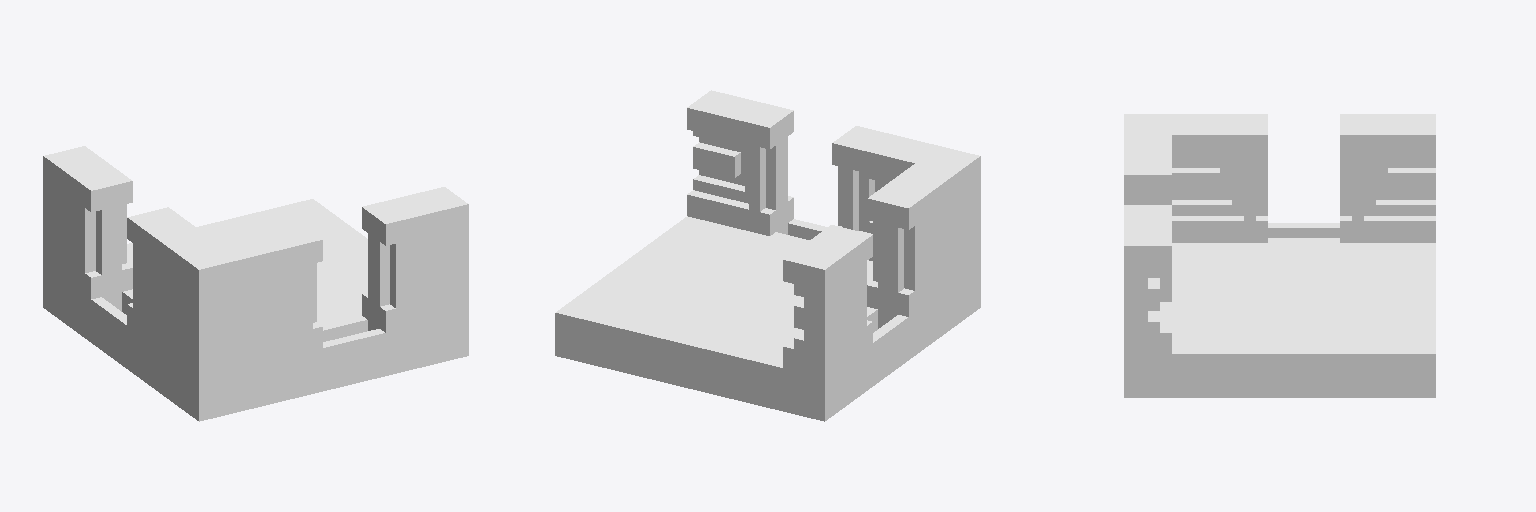
File: Room_Default.obj
3 renders of one model, left to right at view 1: azimuth 30°, elevation 25°; view 2: azimuth 150°, elevation 25°; view 3: azimuth 270°, elevation 25°, orthographic.
Visible parts, largest first — view 1: Room_Default; view 2: Room_Default; view 3: Room_Default.
Boxes of the visible parts, x1,y1,x2,y2 form: Room_Default: [43, 146, 468, 421]; Room_Default: [555, 90, 980, 421]; Room_Default: [1124, 114, 1435, 397].
Size of the model in its own units: 26 by 14 by 26.